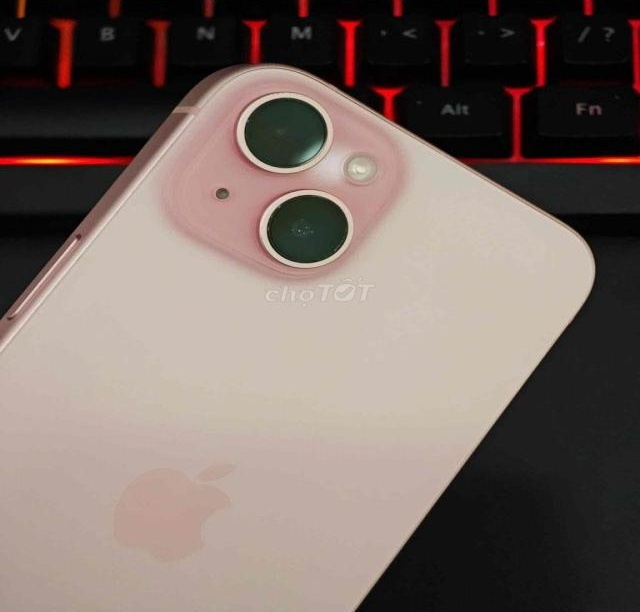scratch: (331, 224, 350, 253), (260, 204, 282, 229), (266, 88, 302, 95)
